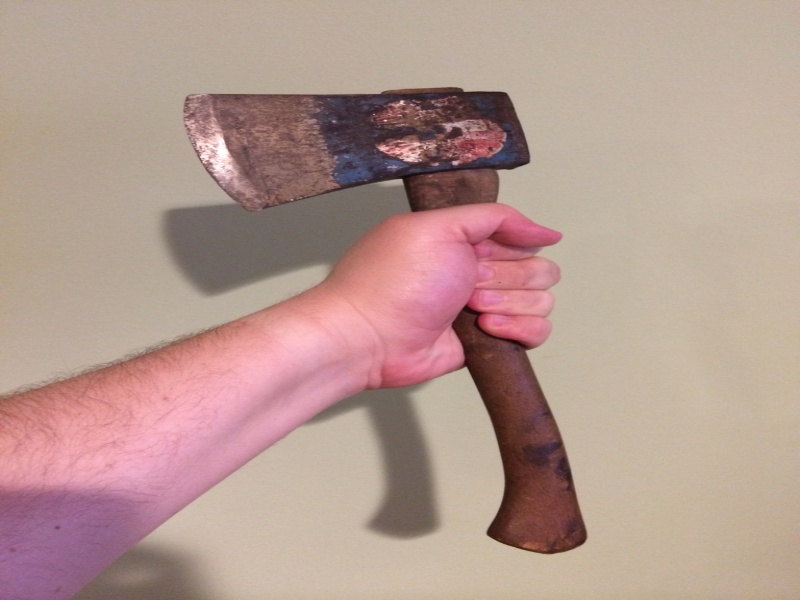axe: (172, 72, 547, 223)
